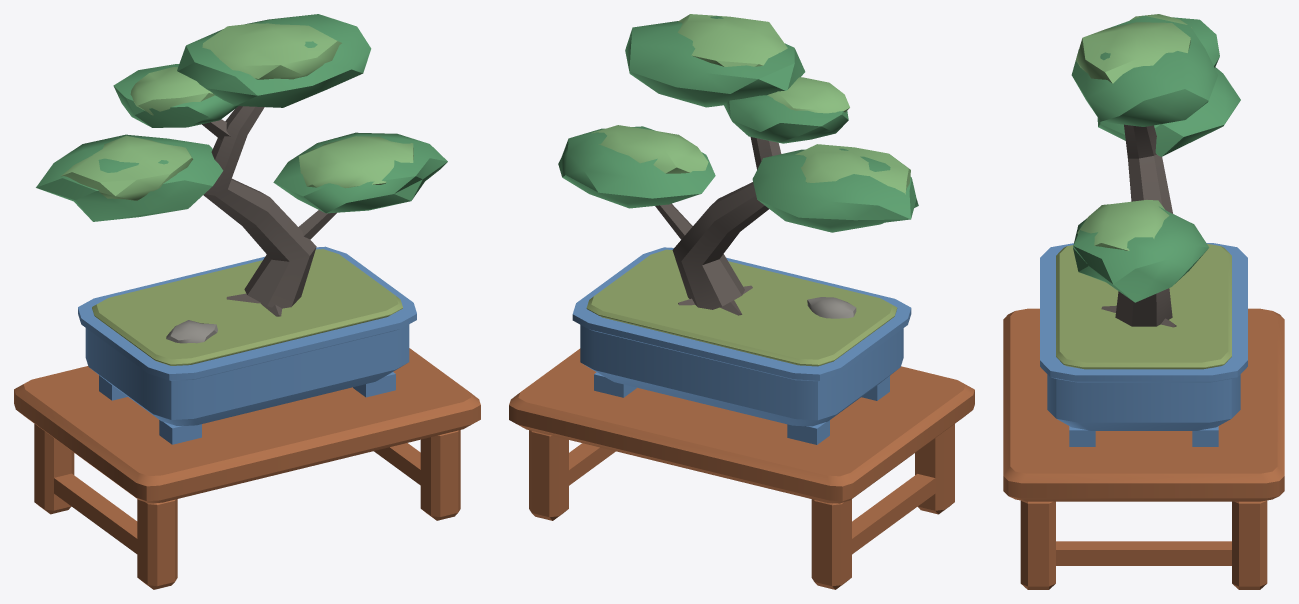
The model's file is furn_bonsai.glb.
The picture shows the model from 3 angles, left to right: view 1: azimuth 30°, elevation 25°; view 2: azimuth 150°, elevation 25°; view 3: azimuth 270°, elevation 25°; orthographic projection. The views are drawn at different scales.
Visible parts, largest first — view 1: furn_bonsai_body; view 2: furn_bonsai_body; view 3: furn_bonsai_body.
Part boxes in pixels (x1,y1,x2,y2): furn_bonsai_body: (14, 14, 480, 589); furn_bonsai_body: (509, 14, 974, 589); furn_bonsai_body: (1003, 14, 1284, 589).
Bounding box in the file's own units: 0.5086 × 0.613 × 0.32.
